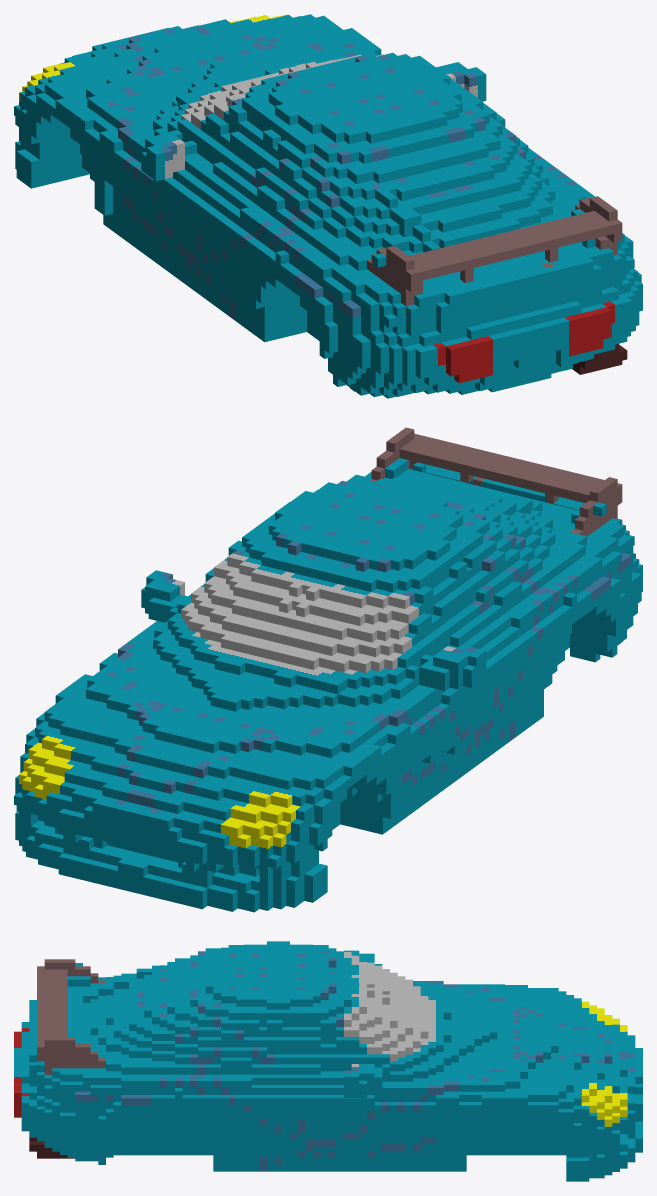
File: gltf.gltf
The picture shows the model from 3 angles, top to bottom: view 1: azimuth 30°, elevation 25°; view 2: azimuth 150°, elevation 25°; view 3: azimuth 270°, elevation 25°; orthographic projection. The views are drawn at different scales.
Visible parts, largest first — view 1: Content-Mesh; view 2: Content-Mesh; view 3: Content-Mesh.
Boxes of the visible parts, x1,y1,x2,y2 form: Content-Mesh: (14, 14, 642, 398); Content-Mesh: (14, 427, 642, 912); Content-Mesh: (14, 941, 642, 1181).
Size of the model in its own units: 1.56 by 0.88 by 3.28.
Materials: 1 (1 with a texture image).
